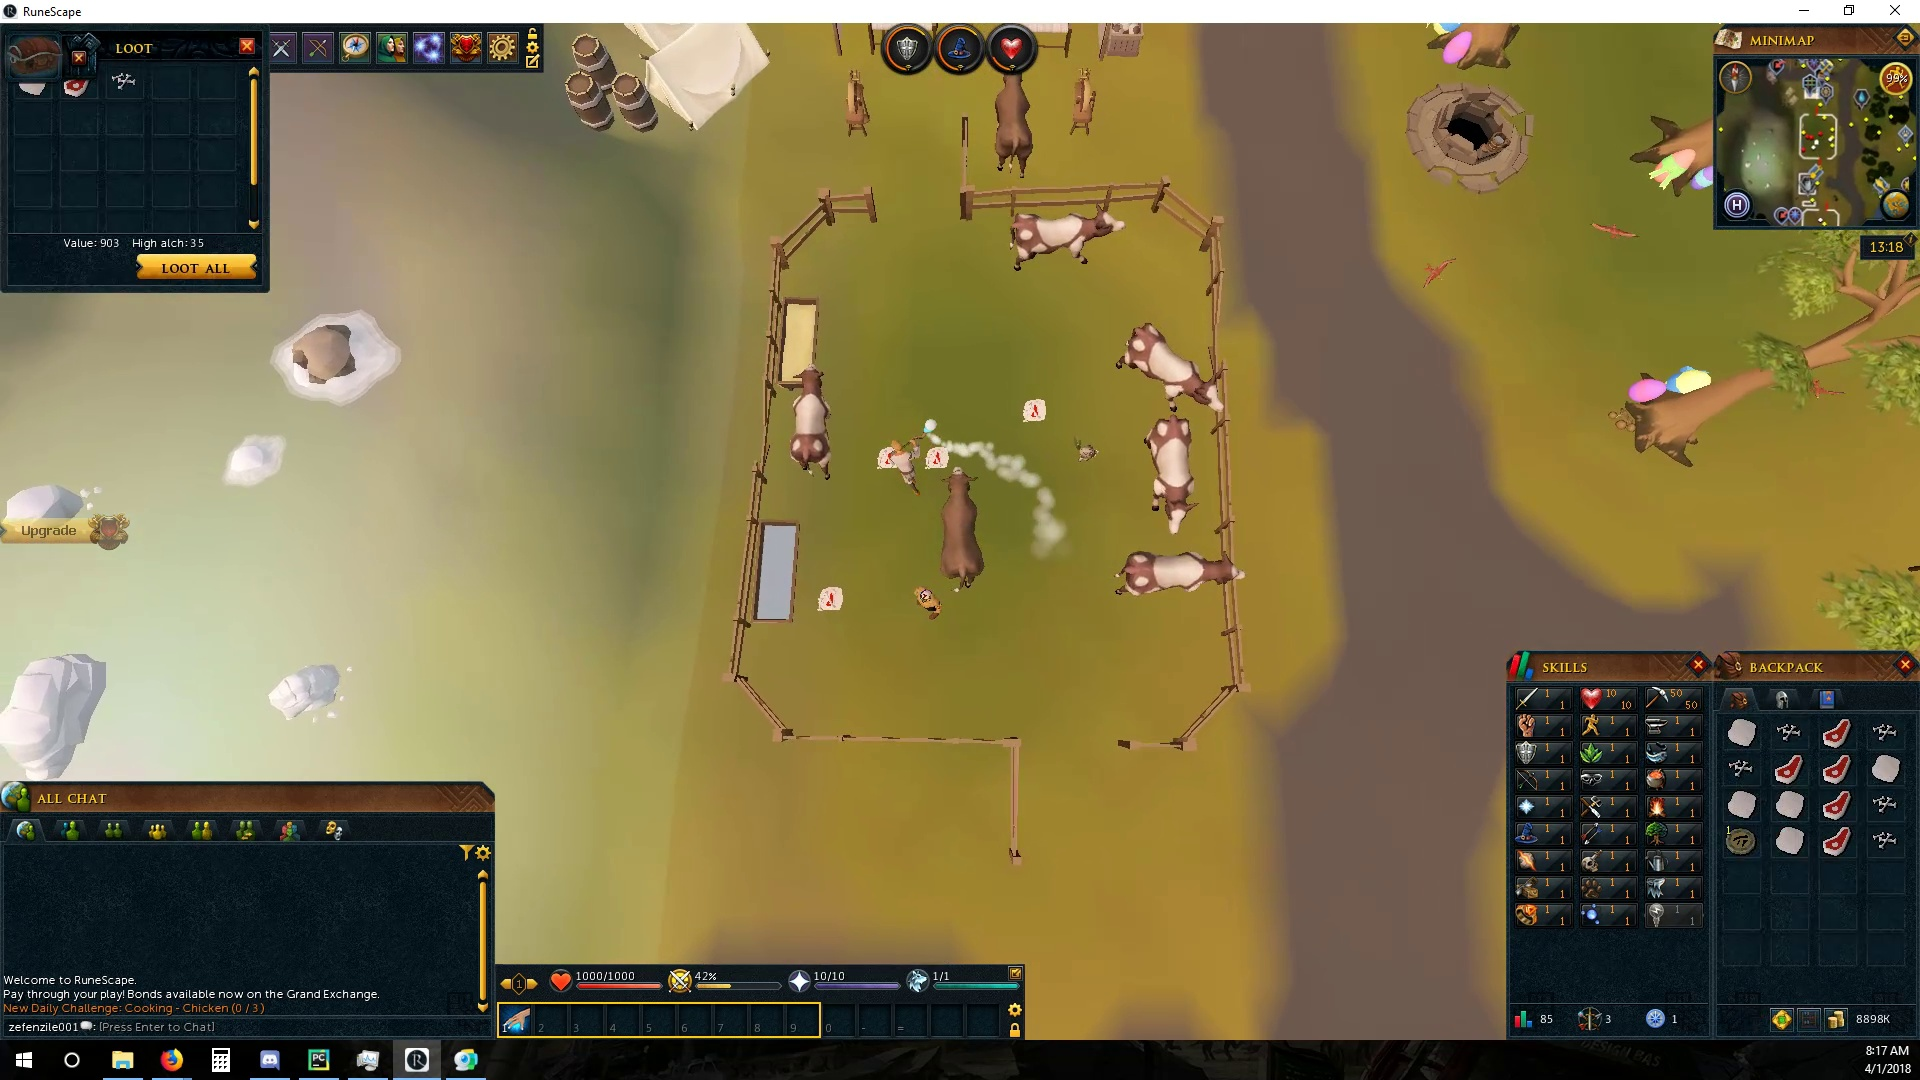cow: (1116, 322, 1226, 415), (1007, 202, 1127, 276), (1139, 411, 1197, 538), (1116, 549, 1249, 603), (785, 364, 837, 480), (938, 468, 986, 592), (992, 73, 1036, 179)
cow_drop: (814, 585, 848, 615), (1015, 396, 1048, 422), (924, 440, 947, 473), (874, 444, 899, 469)
